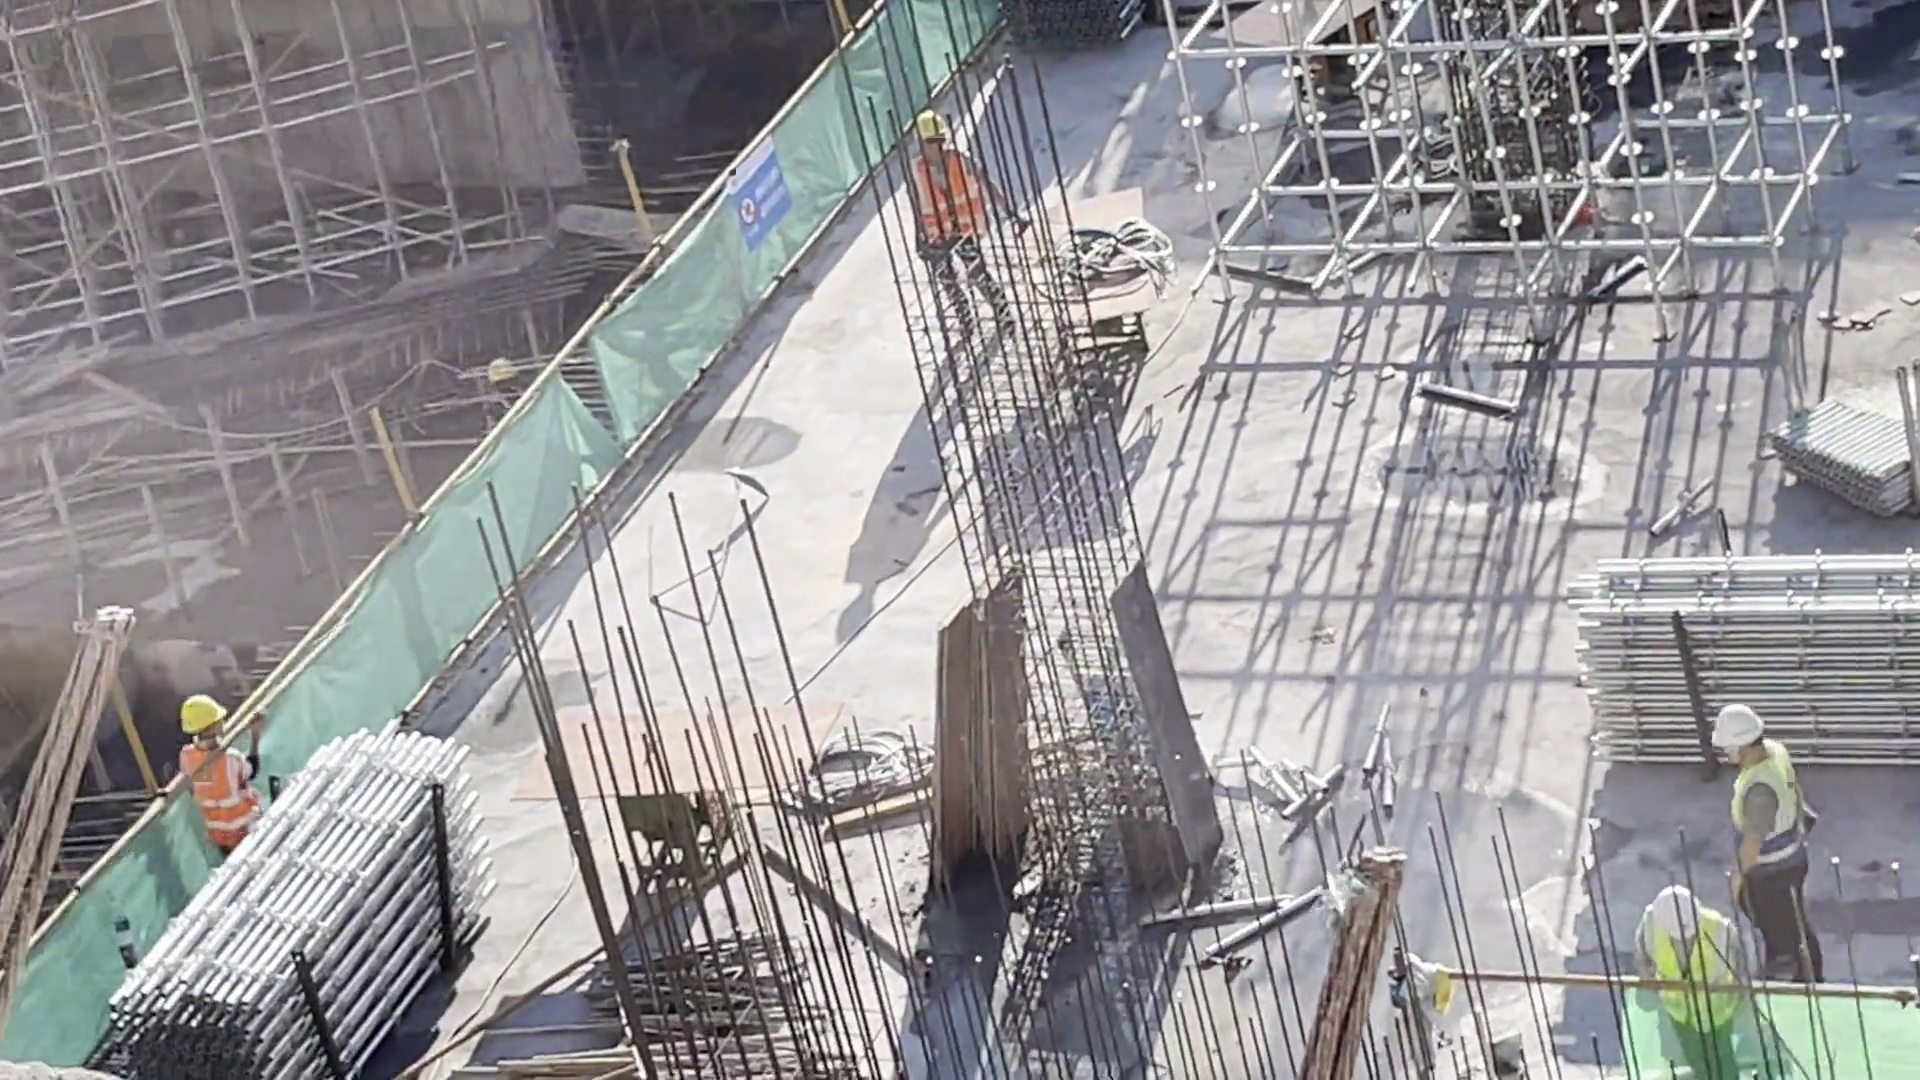cutter: (533, 708, 811, 860), (1245, 1, 1396, 167), (1043, 213, 1168, 345)
helmet: (1696, 696, 1769, 751), (1651, 879, 1701, 940), (178, 702, 221, 733), (911, 117, 944, 140), (485, 360, 517, 379)
person: (903, 108, 1038, 348), (1708, 700, 1817, 994), (1630, 880, 1760, 1080), (163, 697, 278, 864), (487, 358, 523, 429)
scaffold: (163, 768, 488, 1080), (1585, 572, 1920, 743), (1773, 388, 1920, 503), (1011, 1, 1136, 39)
slogan: (732, 158, 791, 237)
vest: (1646, 942, 1731, 1031), (913, 163, 988, 263), (1724, 767, 1797, 865), (189, 752, 251, 831)
